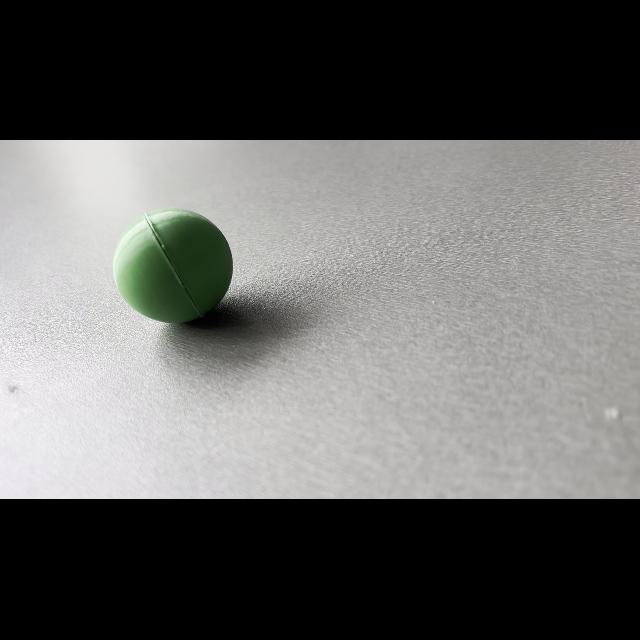objects: (107, 202, 239, 331)
